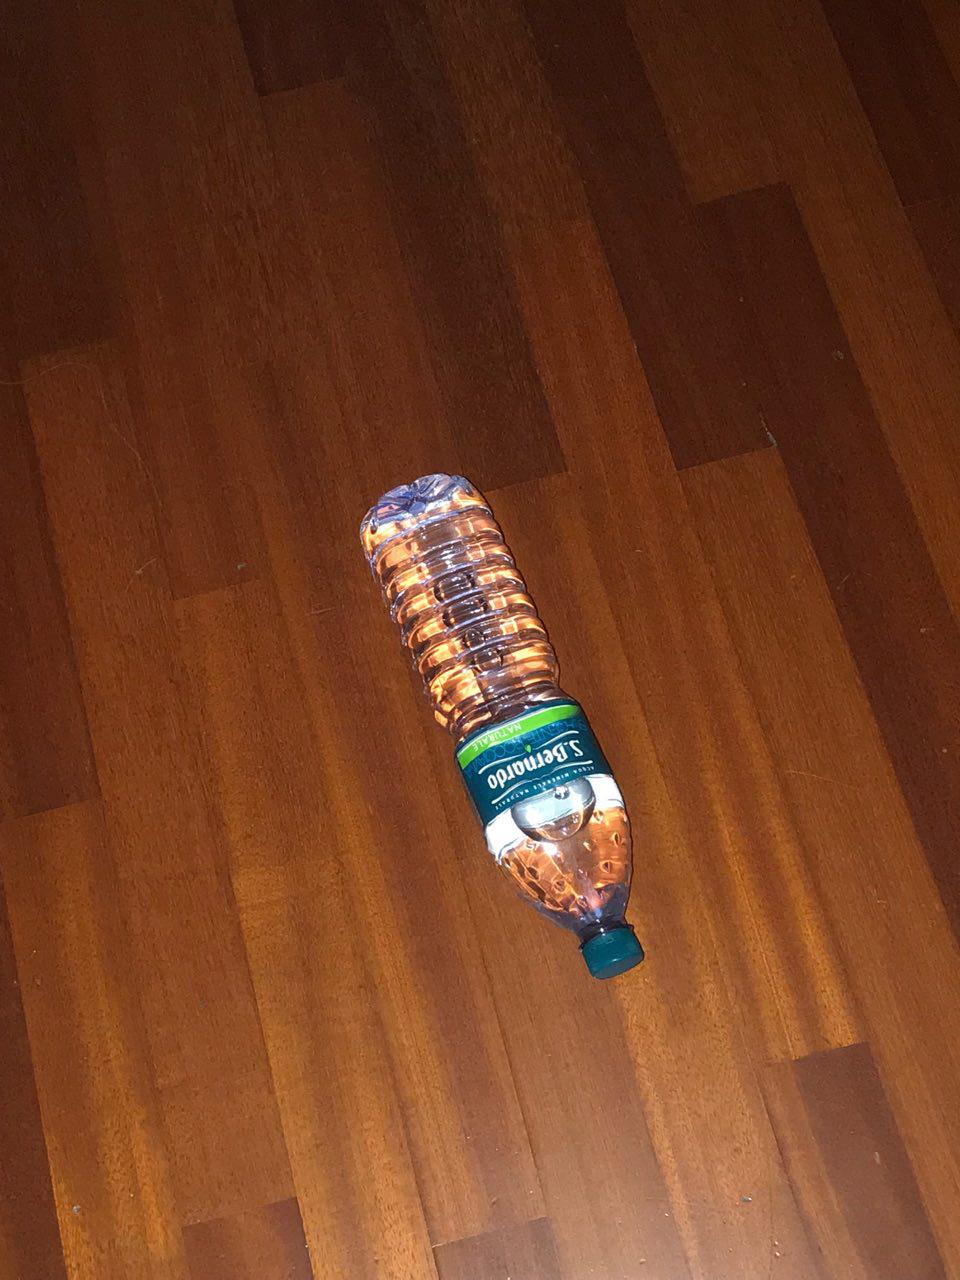san_bernardo: (357, 473, 645, 981)
